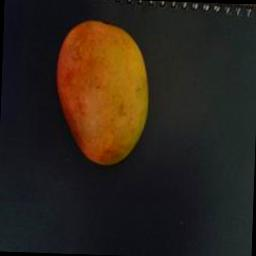Mango Unripe: (48, 10, 162, 184)
